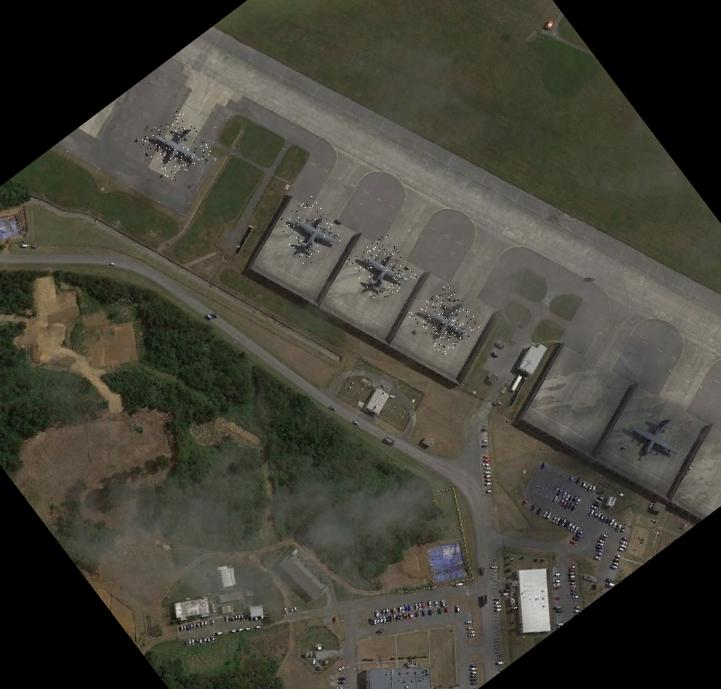A2: (342, 231, 418, 306), (272, 193, 347, 268), (406, 282, 481, 357), (616, 398, 691, 473), (137, 108, 212, 182)
